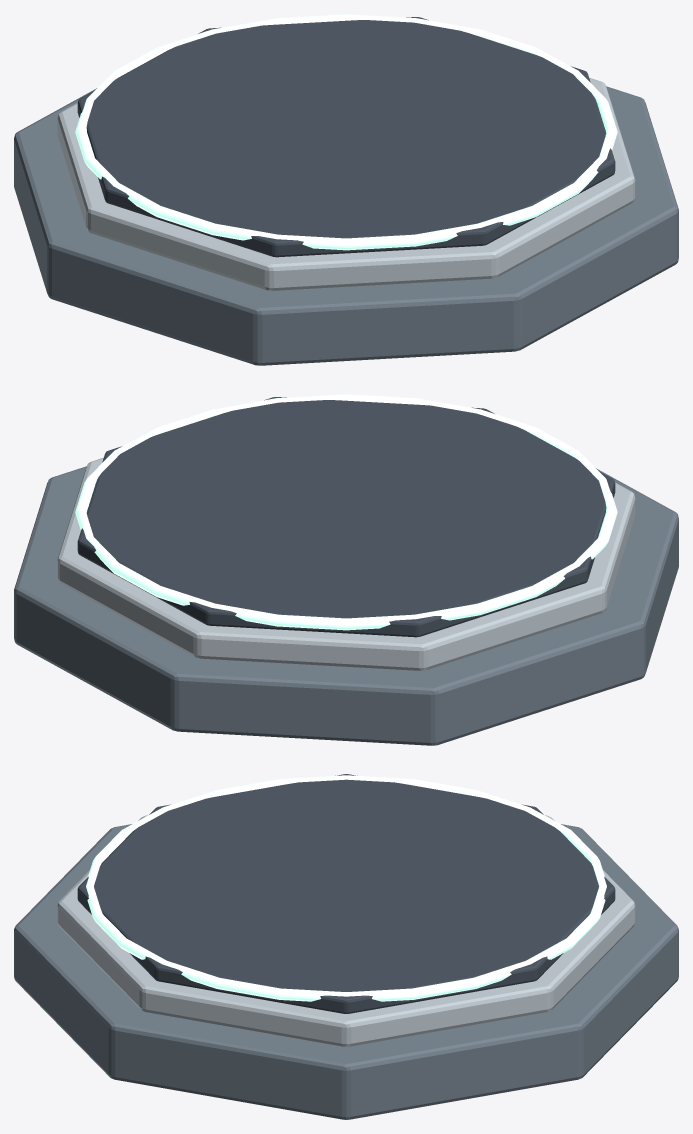
File: golden_plinth.glb
The picture shows the model from 3 angles, top to bottom: view 1: azimuth 30°, elevation 25°; view 2: azimuth 150°, elevation 25°; view 3: azimuth 270°, elevation 25°; orthographic projection. The views are drawn at different scales.
Visible parts, largest first — view 1: GS_Plinth_Surface_PanelPlastic, GS_Plinth_Base_DarkMetal, GS_Plinth_Step_SecondaryMetal, GS_Plinth_Rim_EnergyGreen; view 2: GS_Plinth_Surface_PanelPlastic, GS_Plinth_Base_DarkMetal, GS_Plinth_Step_SecondaryMetal, GS_Plinth_Rim_EnergyGreen; view 3: GS_Plinth_Surface_PanelPlastic, GS_Plinth_Base_DarkMetal, GS_Plinth_Step_SecondaryMetal, GS_Plinth_Rim_EnergyGreen.
Part boxes in pixels (x1=…): GS_Plinth_Surface_PanelPlastic: x1=77, y1=17, x2=615, y2=257; GS_Plinth_Base_DarkMetal: x1=14, y1=86, x2=678, y2=365; GS_Plinth_Step_SecondaryMetal: x1=57, y1=78, x2=635, y2=290; GS_Plinth_Rim_EnergyGreen: x1=75, y1=14, x2=617, y2=250; GS_Plinth_Surface_PanelPlastic: x1=77, y1=397, x2=615, y2=637; GS_Plinth_Base_DarkMetal: x1=14, y1=466, x2=678, y2=745; GS_Plinth_Step_SecondaryMetal: x1=57, y1=458, x2=635, y2=670; GS_Plinth_Rim_EnergyGreen: x1=75, y1=394, x2=617, y2=630; GS_Plinth_Surface_PanelPlastic: x1=77, y1=774, x2=615, y2=1013; GS_Plinth_Base_DarkMetal: x1=14, y1=824, x2=678, y2=1119; GS_Plinth_Step_SecondaryMetal: x1=57, y1=815, x2=635, y2=1046; GS_Plinth_Rim_EnergyGreen: x1=86, y1=775, x2=606, y2=1001.
Bounding box in the file's own units: 5.18 × 0.829 × 5.18.
